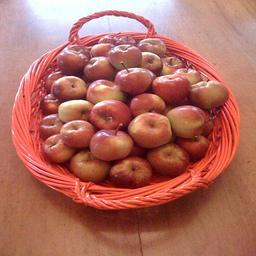apple: (164, 105, 208, 138), (127, 113, 171, 145), (89, 129, 133, 161), (109, 156, 152, 188), (148, 143, 190, 175), (91, 99, 131, 130), (69, 150, 107, 181), (189, 80, 229, 108), (151, 74, 191, 102), (107, 43, 146, 68), (87, 78, 126, 103), (115, 67, 154, 92), (51, 75, 88, 101), (60, 119, 95, 145), (44, 133, 75, 161), (56, 49, 87, 75), (176, 134, 209, 158), (131, 92, 164, 116), (58, 99, 92, 121), (84, 55, 114, 79), (39, 113, 62, 135), (139, 52, 161, 75), (161, 55, 184, 73), (175, 67, 202, 82)
